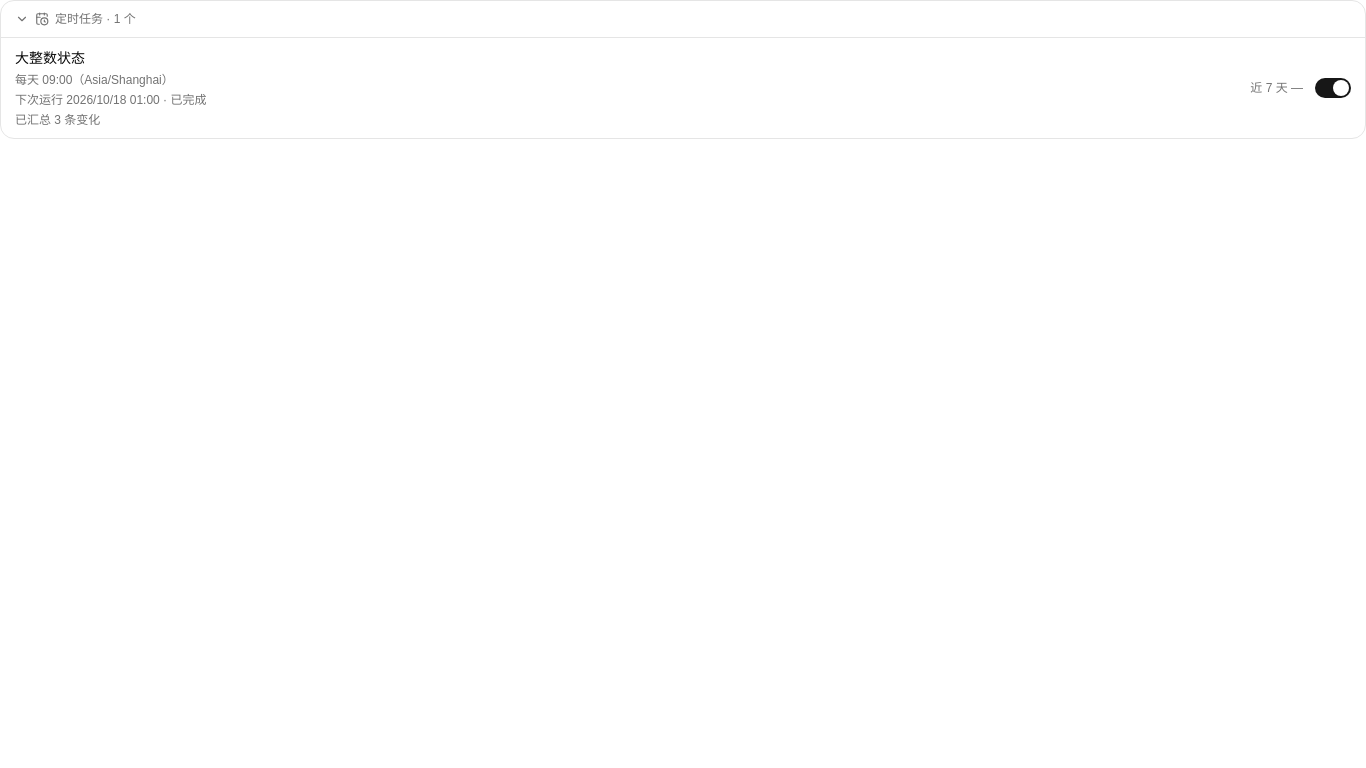
it: BotScheduleSection › 含大整数时退回原始 JSON，避免展示精度失真
The image size is (1366, 768).
Click the text "大整数状态" at [50, 58], box [15,48,85,68]
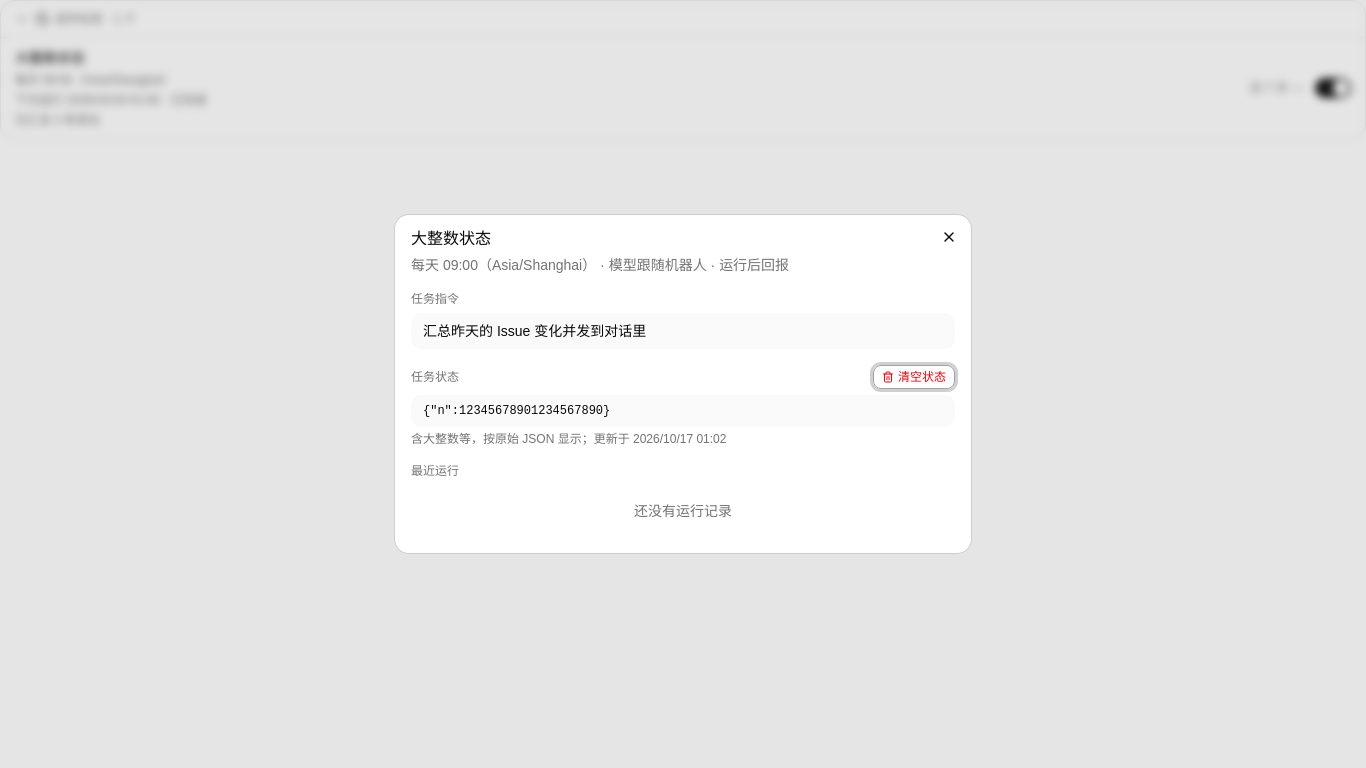
Expected: the text with test id "bot-schedule-task-state" reads "{\"n\":12345678901234567890}", [423,404,610,418]
Expected: the dialog shows "含大整数等，按原始 JSON 显示", [411,432,594,446]
